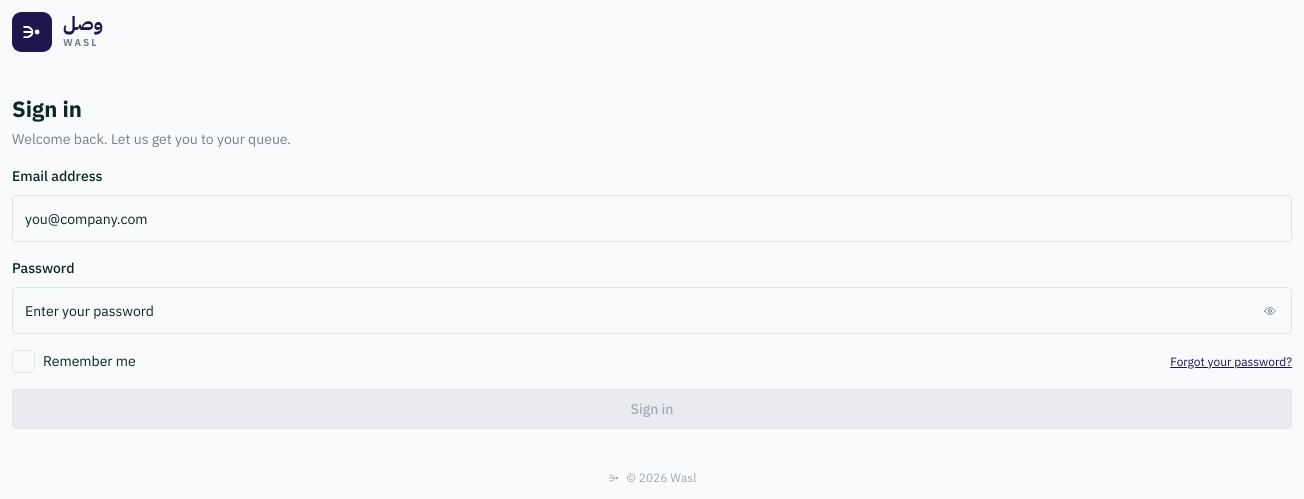
Test: the submit is gated on both fields being non-empty › enables once both hold content
Type "agent2@wasl.local" into the field labelled "Email address" at (652, 218), box x1=12 y1=195 x2=1292 y2=242
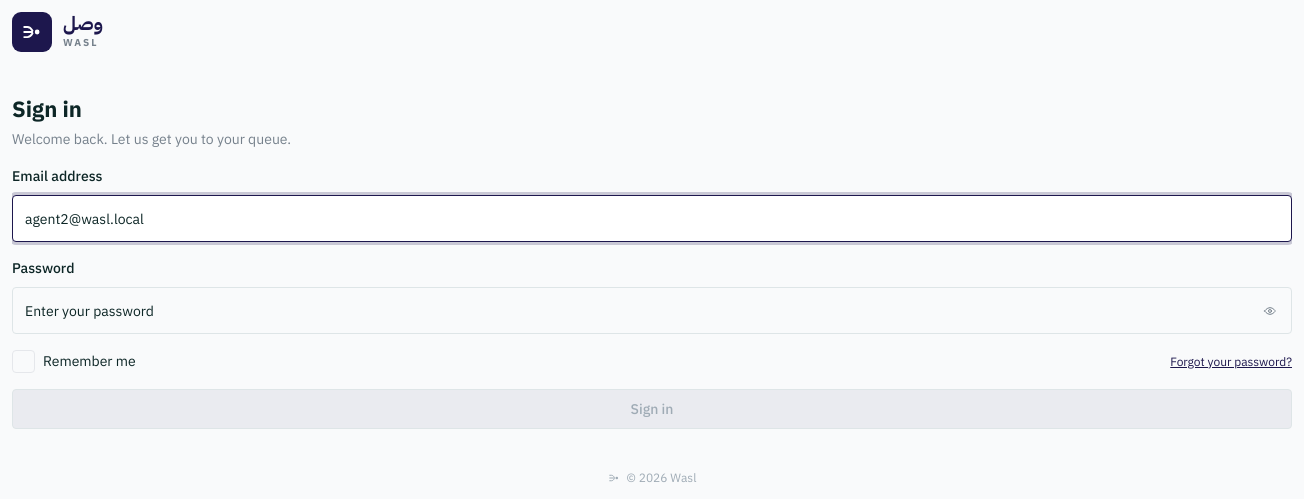
Type "x" into the password field named "password" at (652, 310), box x1=12 y1=287 x2=1292 y2=334
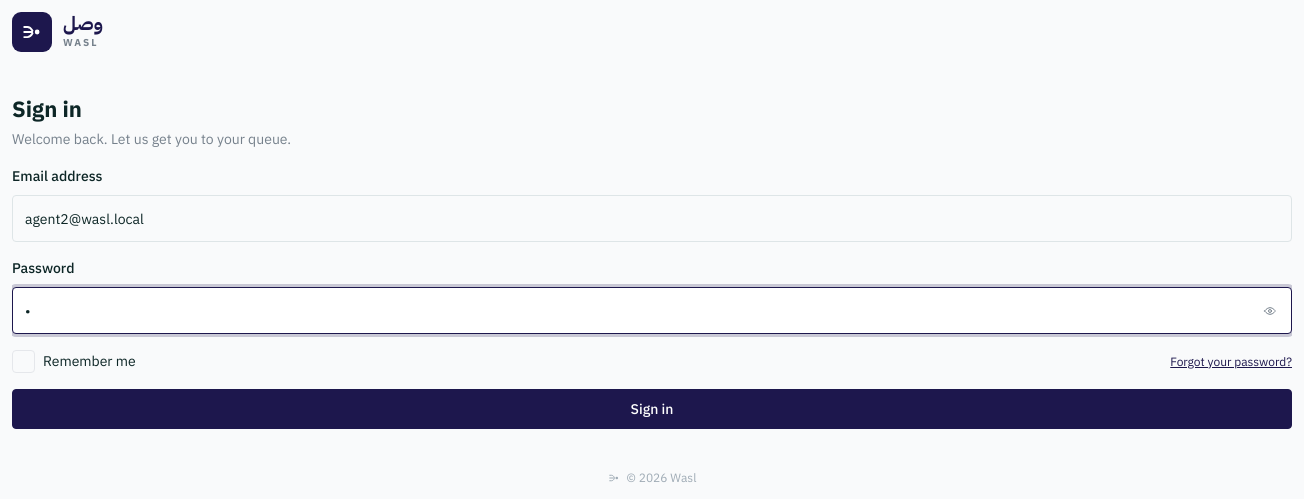
Check: the button "Sign in" is enabled, box x1=12 y1=389 x2=1292 y2=429
